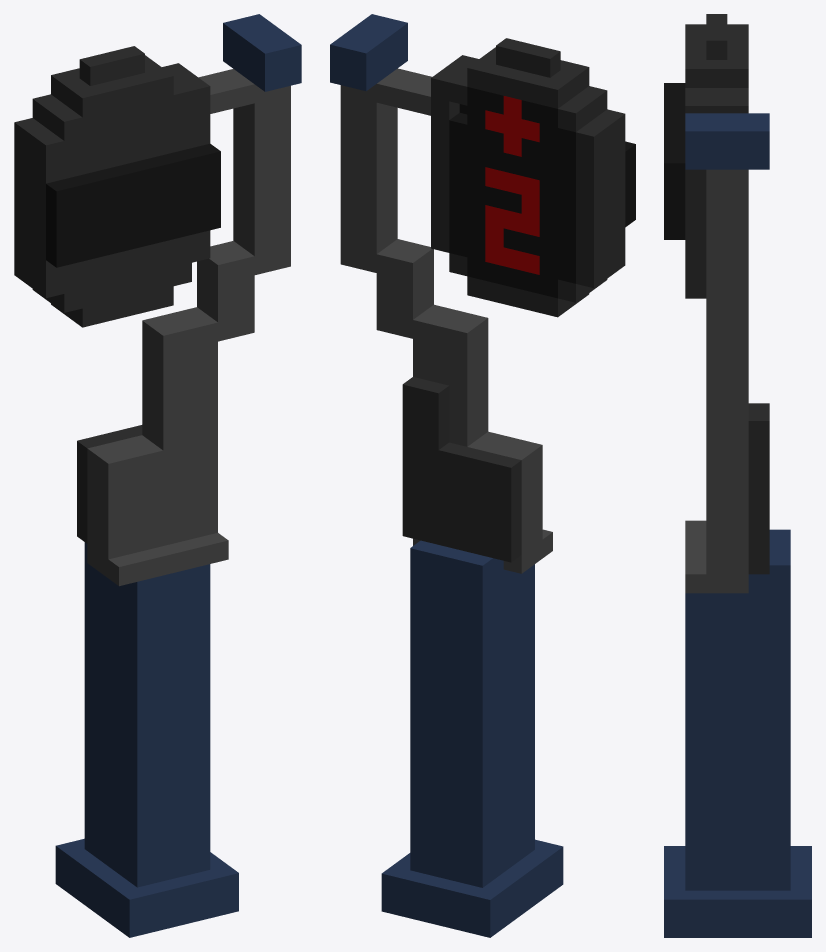
The model's file is pole.obj.
3 renders of one model, left to right at view 1: azimuth 30°, elevation 25°; view 2: azimuth 150°, elevation 25°; view 3: azimuth 270°, elevation 25°, orthographic.
Bounding box in the file's own units: 1.4 × 4.5 × 0.7.
1 material, 1 textured.
